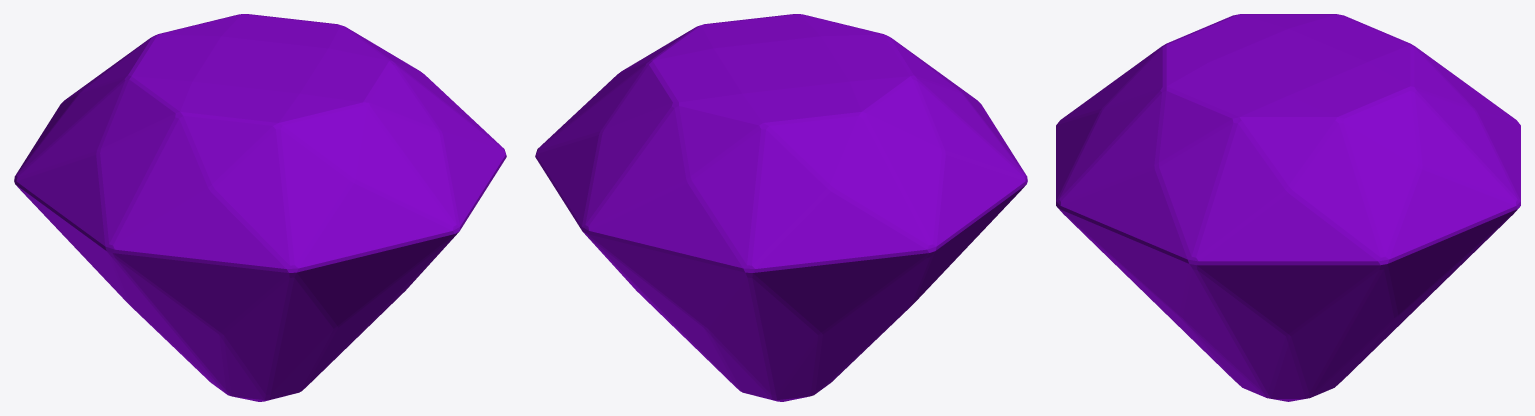
Rendered from Purple Chaos Emerald.obj.
The picture shows the model from 3 angles, left to right: view 1: azimuth 30°, elevation 25°; view 2: azimuth 150°, elevation 25°; view 3: azimuth 270°, elevation 25°; orthographic projection.
Size of the model in its own units: 37.38 by 29.91 by 37.38.
1 material, 1 textured.
